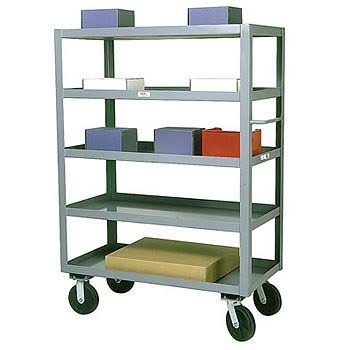Carts: (53, 24, 285, 342)
